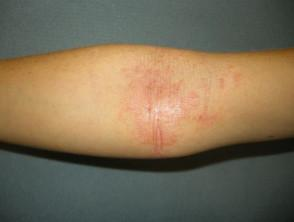Eczema: (153, 126, 176, 144), (153, 88, 175, 103), (150, 106, 172, 120), (194, 114, 214, 128), (132, 123, 148, 138), (131, 104, 144, 120), (152, 73, 170, 84), (131, 72, 144, 84), (177, 108, 188, 120), (229, 73, 237, 89), (136, 88, 146, 100), (187, 92, 196, 103), (177, 76, 185, 86)
